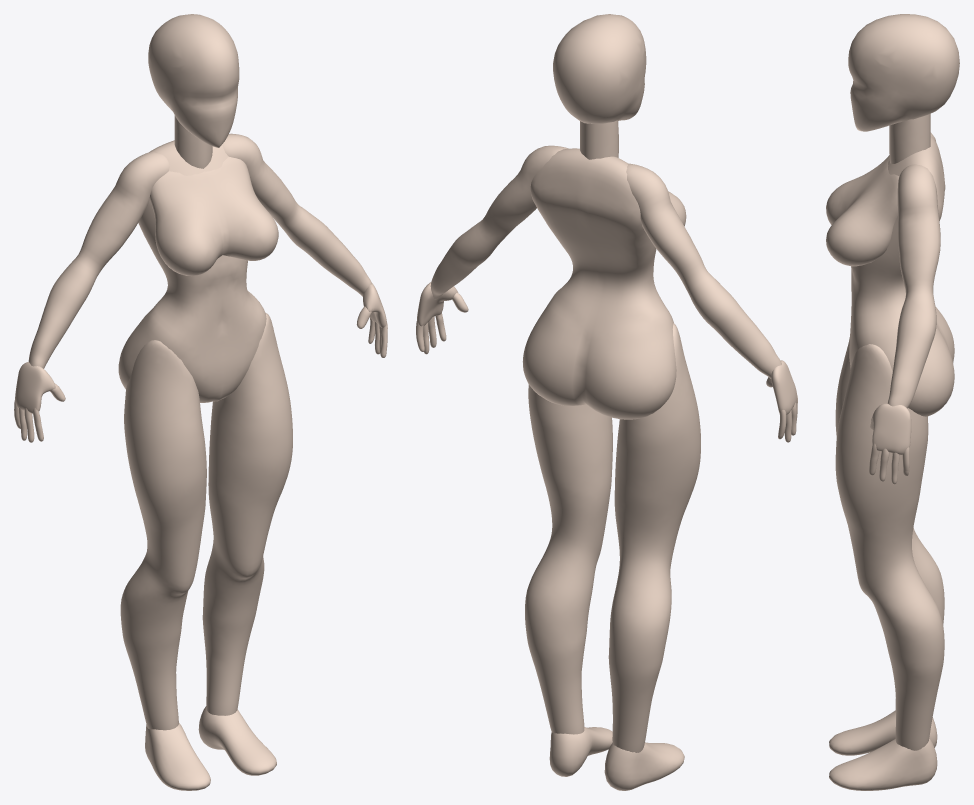
File: medium-light.glb
3 renders of one model, left to right at view 1: azimuth 30°, elevation 25°; view 2: azimuth 150°, elevation 25°; view 3: azimuth 270°, elevation 25°, orthographic. The views are drawn at different scales.
Visible parts, largest first — view 1: FEMALE BODY TYPE 1_FEMALE BODY TYPE 1_0.001; view 2: FEMALE BODY TYPE 1_FEMALE BODY TYPE 1_0.001; view 3: FEMALE BODY TYPE 1_FEMALE BODY TYPE 1_0.001.
Part boxes in pixels (left/top/right/bottom): FEMALE BODY TYPE 1_FEMALE BODY TYPE 1_0.001: left=14, top=14, right=387, bottom=790; FEMALE BODY TYPE 1_FEMALE BODY TYPE 1_0.001: left=416, top=14, right=797, bottom=790; FEMALE BODY TYPE 1_FEMALE BODY TYPE 1_0.001: left=826, top=14, right=959, bottom=790.
Size of the model in its own units: 0.8632 by 1.68 by 0.2718.
